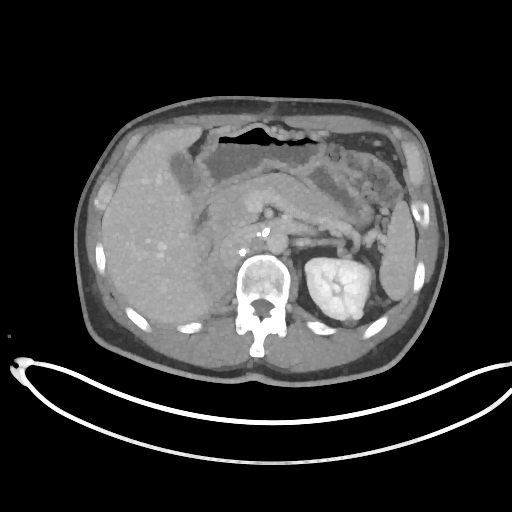Lesion: (339, 317, 359, 328)
